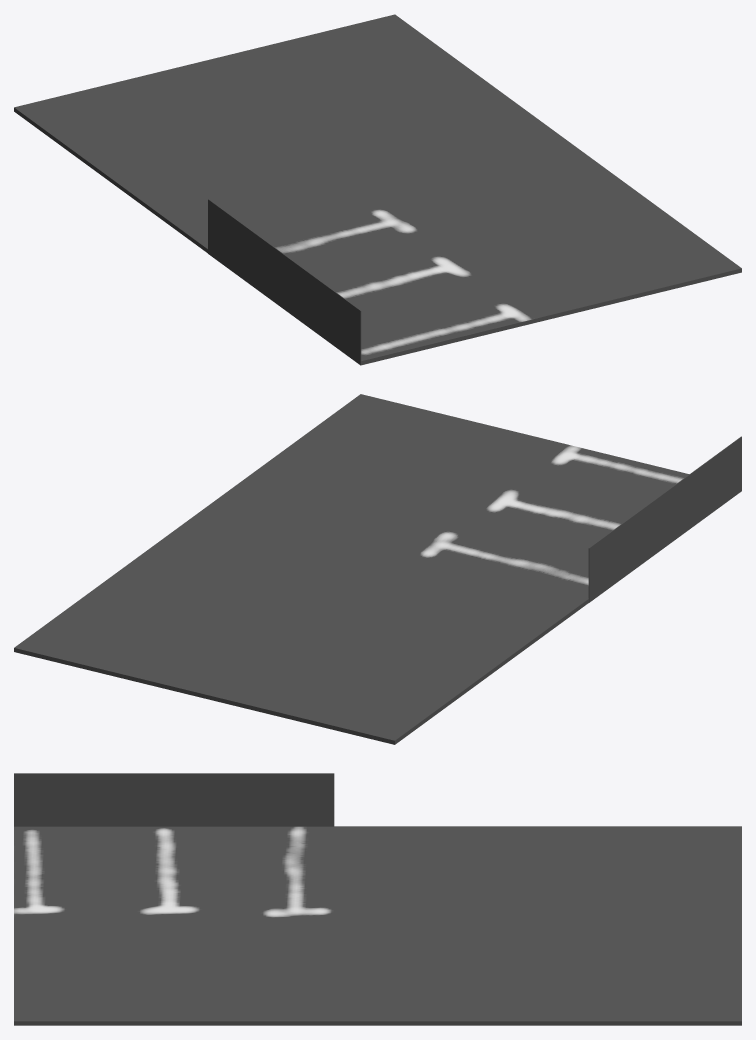
Rendered from Parkhaus.glb.
3 renders of one model, top to bottom at view 1: azimuth 30°, elevation 25°; view 2: azimuth 150°, elevation 25°; view 3: azimuth 270°, elevation 25°, orthographic. The views are drawn at different scales.
Parts seen in each view (by area): view 1: mesh_id27, mesh_id32; view 2: mesh_id27, mesh_id32; view 3: mesh_id27, mesh_id32.
Part boxes in pixels (<box>): mesh_id27: <box>14,14,741,365</box>; mesh_id32: <box>208,199,361,365</box>; mesh_id27: <box>14,394,689,744</box>; mesh_id32: <box>588,436,741,602</box>; mesh_id27: <box>14,826,741,1025</box>; mesh_id32: <box>14,773,334,826</box>.
Bounding box in the file's own units: 1.46 × 0.2 × 2.3.
2 materials, 2 textured.
